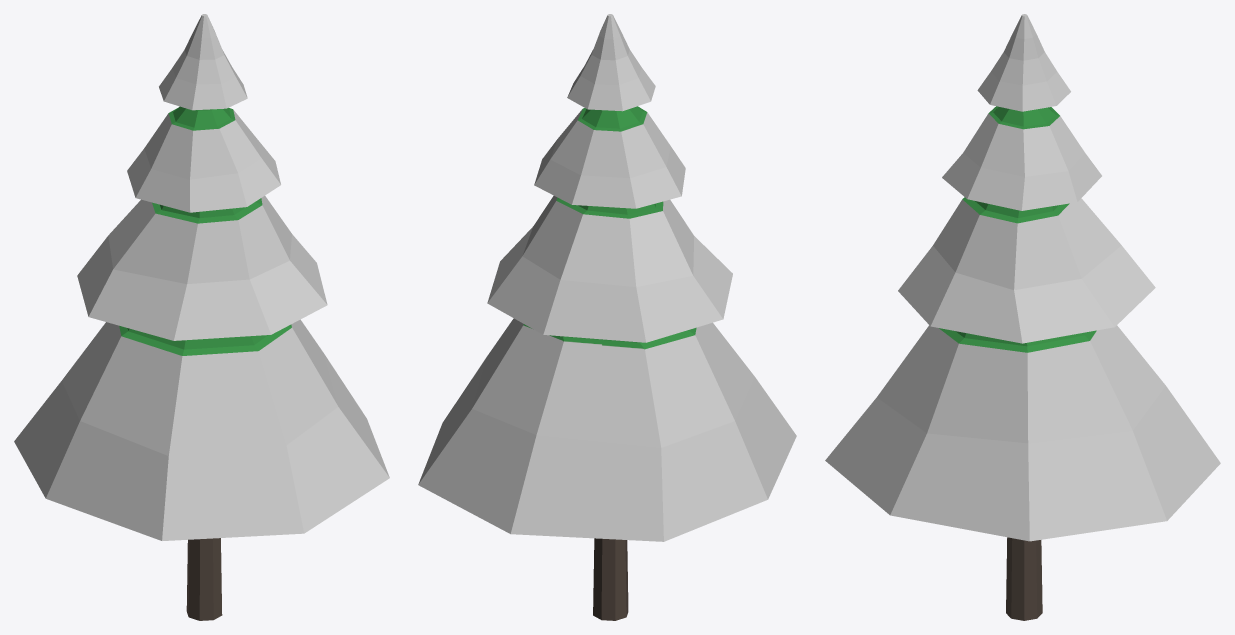
Rendered from normal_pine_tree_snow_blender.fbx.
3 views of the same model, side by side, from view 1: azimuth 30°, elevation 25°; view 2: azimuth 150°, elevation 25°; view 3: azimuth 270°, elevation 25° (orthographic).
Visible parts, largest first — view 1: normal_pine_tree_snow_object; view 2: normal_pine_tree_snow_object; view 3: normal_pine_tree_snow_object.
Boxes of the visible parts, left/top/right/bottom form: normal_pine_tree_snow_object: left=14, top=14, right=389, bottom=620; normal_pine_tree_snow_object: left=418, top=14, right=796, bottom=620; normal_pine_tree_snow_object: left=825, top=14, right=1220, bottom=620.
Size of the model in its own units: 2035 by 3597 by 2157.
1 material, 1 textured.
